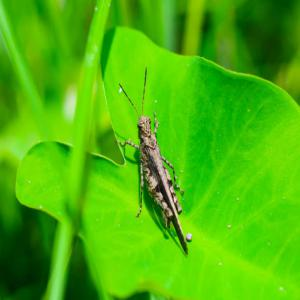locust: (103, 60, 203, 262)
